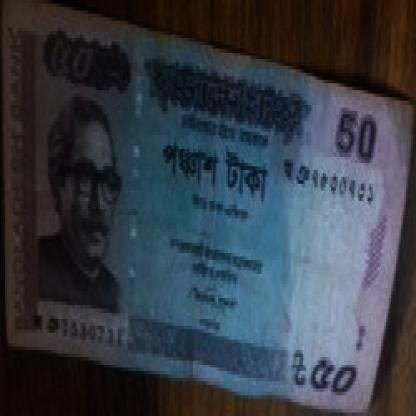Fifty taka: (306, 350, 363, 409), (40, 35, 101, 86)
